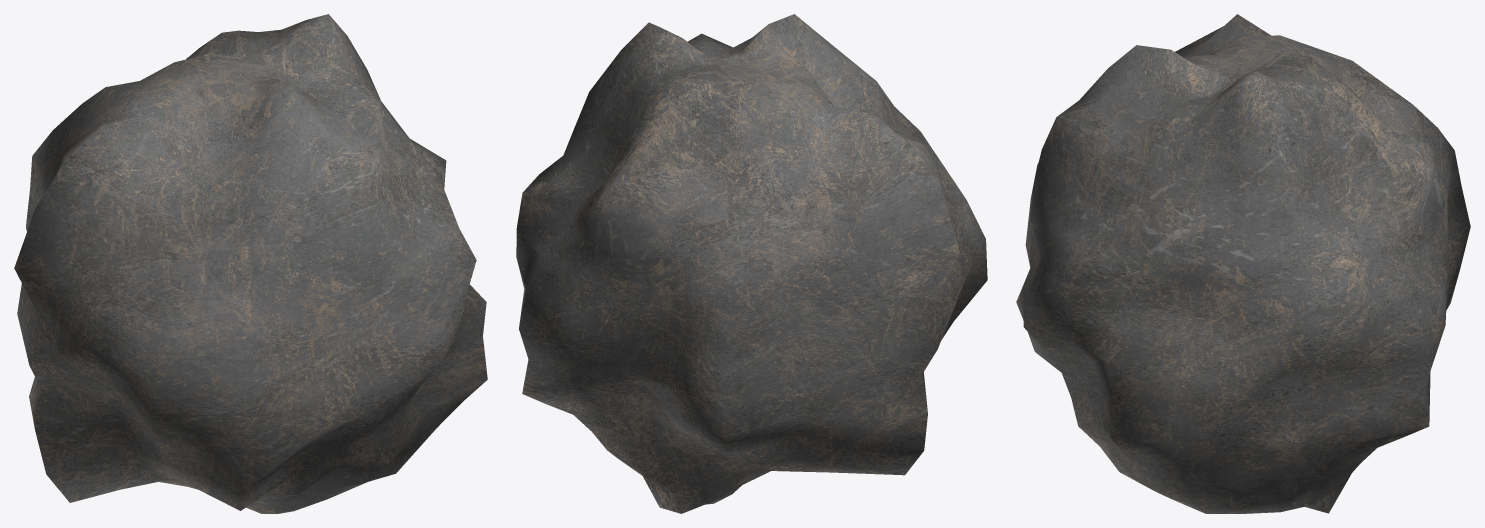
Rendered from stone 4.fbx.
3 renders of one model, left to right at view 1: azimuth 30°, elevation 25°; view 2: azimuth 150°, elevation 25°; view 3: azimuth 270°, elevation 25°, orthographic. The views are drawn at different scales.
Visible parts, largest first — view 1: pSphere4; view 2: pSphere4; view 3: pSphere4.
Boxes of the visible parts, bbox=[...] form: pSphere4: bbox=[14, 14, 487, 513]; pSphere4: bbox=[516, 14, 987, 513]; pSphere4: bbox=[1016, 14, 1470, 513].
Bounding box in the file's own units: 47.32 × 48.76 × 43.39.
